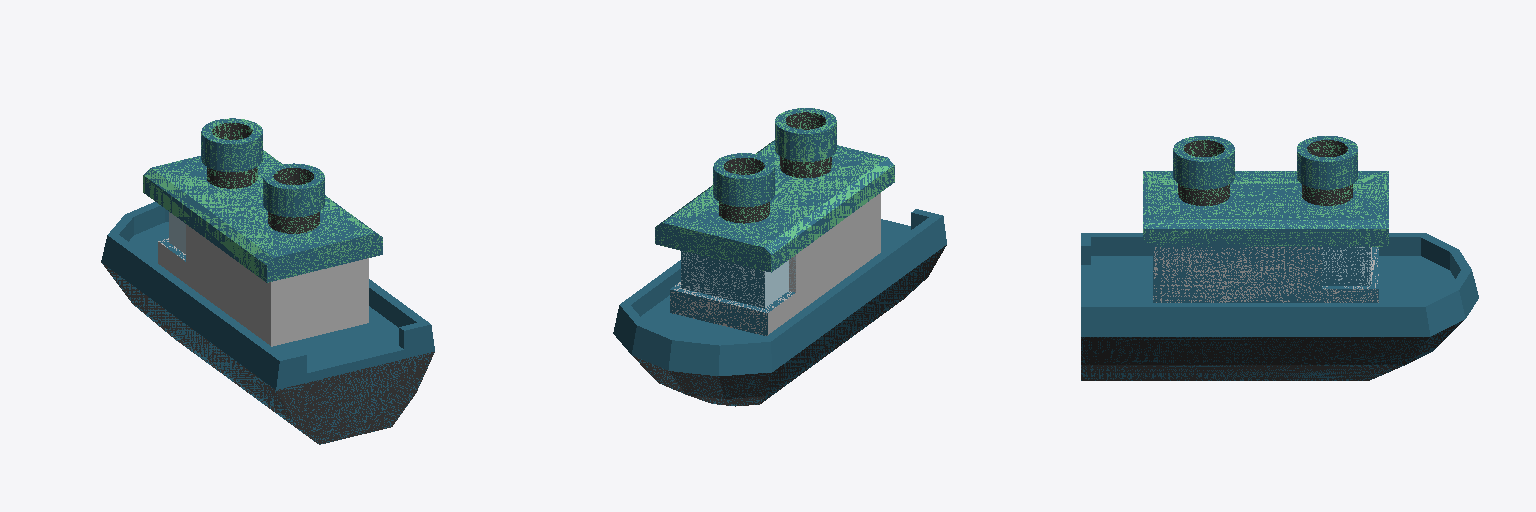
The model's file is boat_022.obj.
3 views of the same model, side by side, from view 1: azimuth 30°, elevation 25°; view 2: azimuth 150°, elevation 25°; view 3: azimuth 270°, elevation 25° (orthographic).
Visible parts, largest first — view 1: boat_022; view 2: boat_022; view 3: boat_022.
Part boxes in pixels (x1,y1,x2,y2): boat_022: (101, 118, 434, 444); boat_022: (613, 108, 946, 406); boat_022: (1081, 136, 1478, 380).
Size of the model in its own units: 2.59 by 3.33 by 5.61.